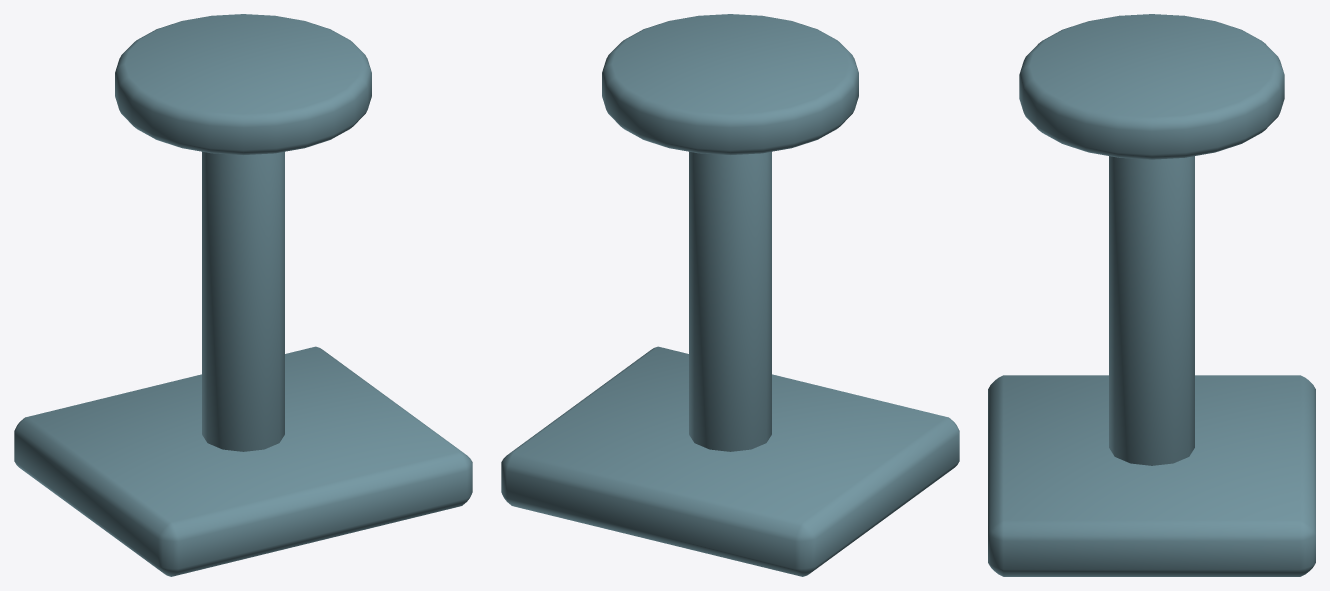
The model's file is SensorMast.fbx.
The picture shows the model from 3 angles, left to right: view 1: azimuth 30°, elevation 25°; view 2: azimuth 150°, elevation 25°; view 3: azimuth 270°, elevation 25°; orthographic projection. The views are drawn at different scales.
Parts seen in each view (by area): view 1: Render_LOD0; view 2: Render_LOD0; view 3: Render_LOD0.
Boxes of the visible parts, x1,y1,x2,y2 form: Render_LOD0: [14, 14, 472, 576]; Render_LOD0: [501, 14, 959, 576]; Render_LOD0: [988, 14, 1315, 576].
Size of what is drawn, in the model's own units: 0.96 by 1.24 by 0.84.
